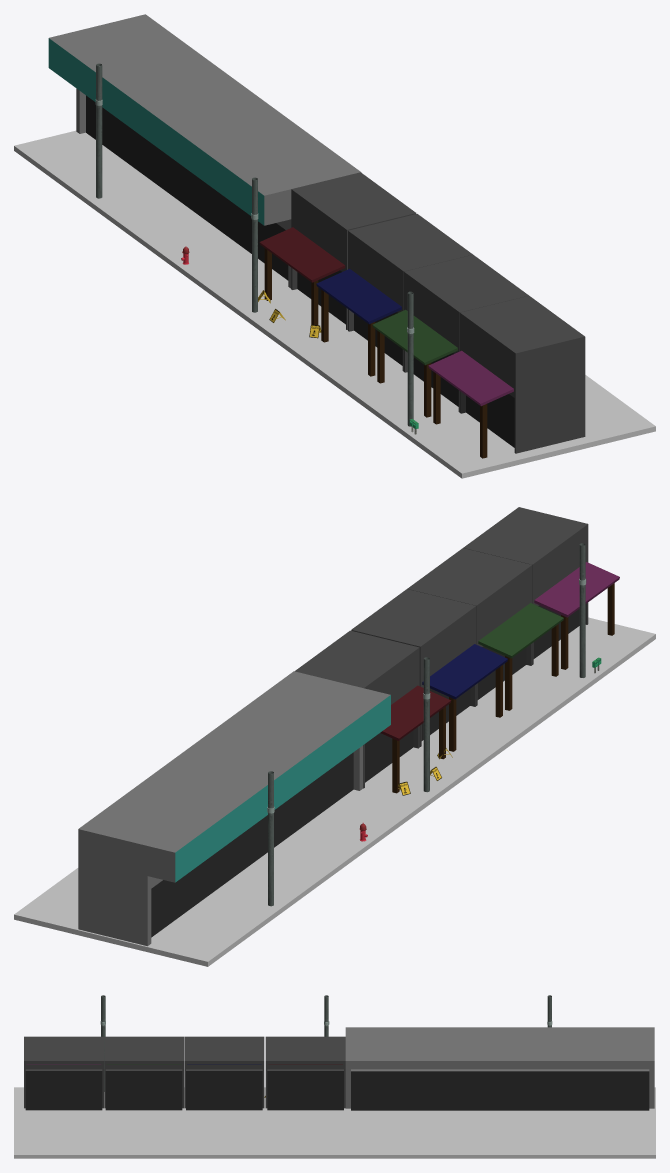
The model's file is Bloco 4.fbx.
3 views of the same model, one above another, from view 1: azimuth 30°, elevation 25°; view 2: azimuth 150°, elevation 25°; view 3: azimuth 270°, elevation 25° (orthographic). The views are drawn at different scales.
Parts seen in each view (by area): view 1: LojaGrande.001, Calcada, LojaPequena.003, LojaPequena.007, LojaPequena.006, LojaPequena.005, Poste; view 2: LojaGrande.001, Calcada, LojaPequena.005, LojaPequena.006, LojaPequena.003, LojaPequena.007, Poste; view 3: Calcada, LojaGrande.001, LojaPequena.006, LojaPequena.007, LojaPequena.003, LojaPequena.005, Poste.
Boxes of the visible parts, left/top/right/bottom form: LojaGrande.001: left=48, top=14, right=361, bottom=288; Calcada: left=14, top=130, right=655, bottom=478; LojaPequena.003: left=428, top=295, right=585, bottom=458; LojaPequena.007: left=259, top=172, right=416, bottom=329; LojaPequena.006: left=316, top=214, right=472, bottom=376; LojaPequena.005: left=372, top=254, right=528, bottom=417; Poste: left=95, top=63, right=414, bottom=426; LojaGrande.001: left=78, top=671, right=390, bottom=946; Calcada: left=14, top=617, right=655, bottom=966; LojaPequena.005: left=407, top=548, right=563, bottom=710; LojaPequena.006: left=351, top=589, right=507, bottom=751; LojaPequena.003: left=463, top=507, right=619, bottom=669; LojaPequena.007: left=295, top=630, right=451, bottom=793; Poste: left=267, top=543, right=586, bottom=906; Calcada: left=14, top=1087, right=655, bottom=1158; LojaGrande.001: left=345, top=1027, right=654, bottom=1110; LojaPequena.006: left=184, top=1036, right=264, bottom=1110; LojaPequena.007: left=265, top=1036, right=345, bottom=1110; LojaPequena.003: left=24, top=1036, right=103, bottom=1110; LojaPequena.005: left=104, top=1036, right=183, bottom=1110; Poste: left=100, top=995, right=552, bottom=1091.
Size of the model in its own units: 2000 by 1354 by 8000.
